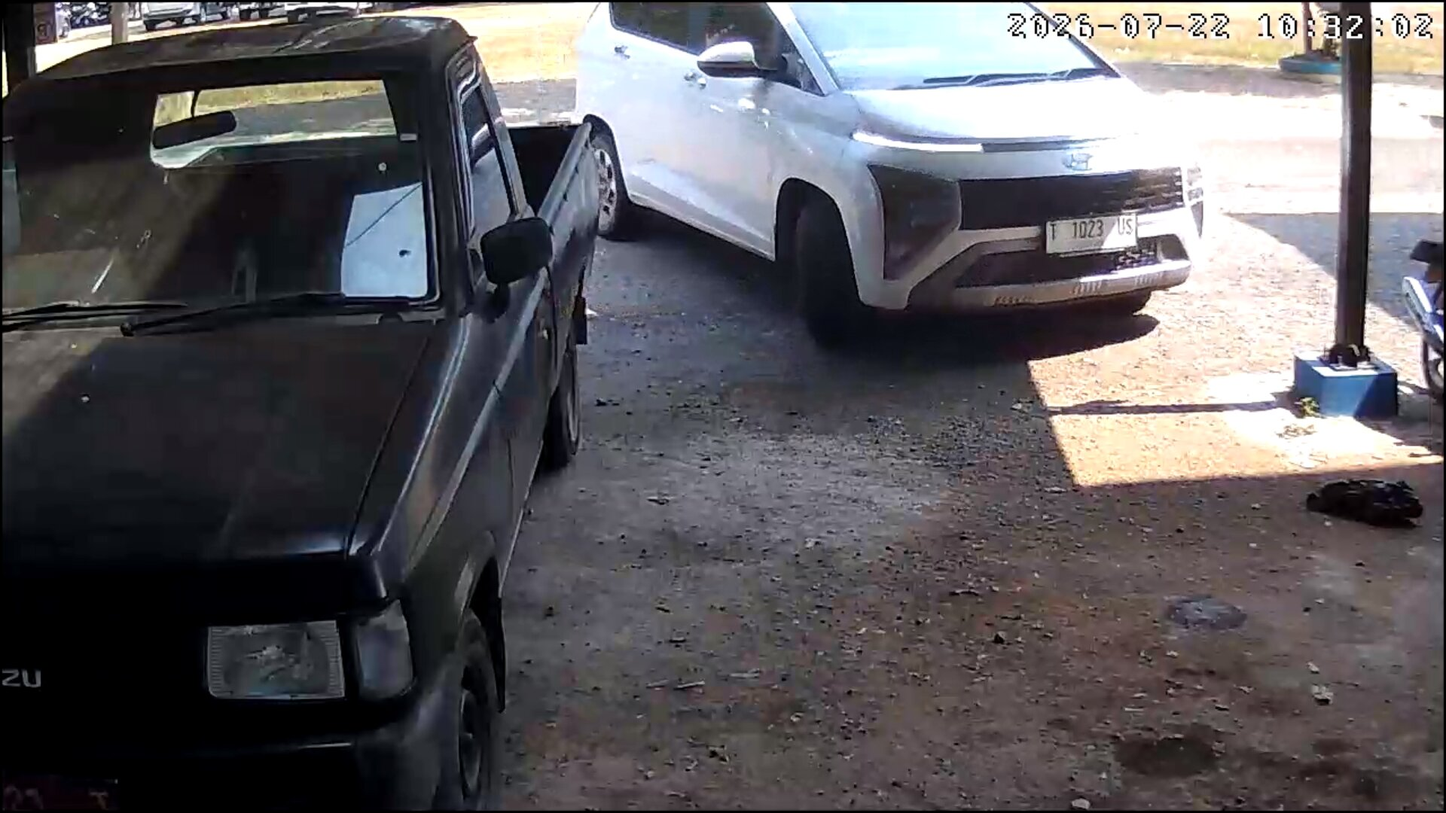plat nomor: (1045, 213, 1138, 257)
